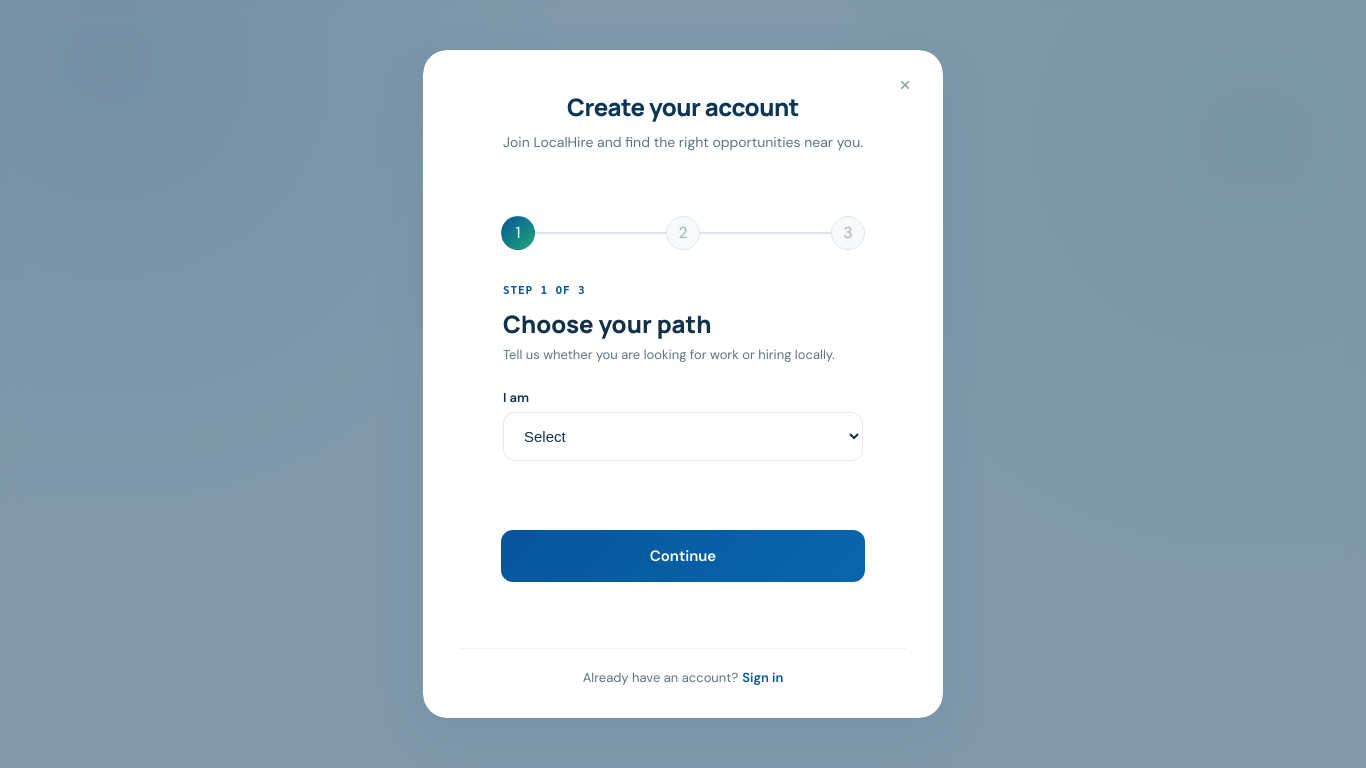
Test: AuthModal › toggles modes and resets to the first step
Expected: the heading with class "auth-modal__title" reads "Create your account", [567, 90, 799, 123]
Click the button with class "auth-modal__toggle": [763, 677] box [742, 669, 783, 686]
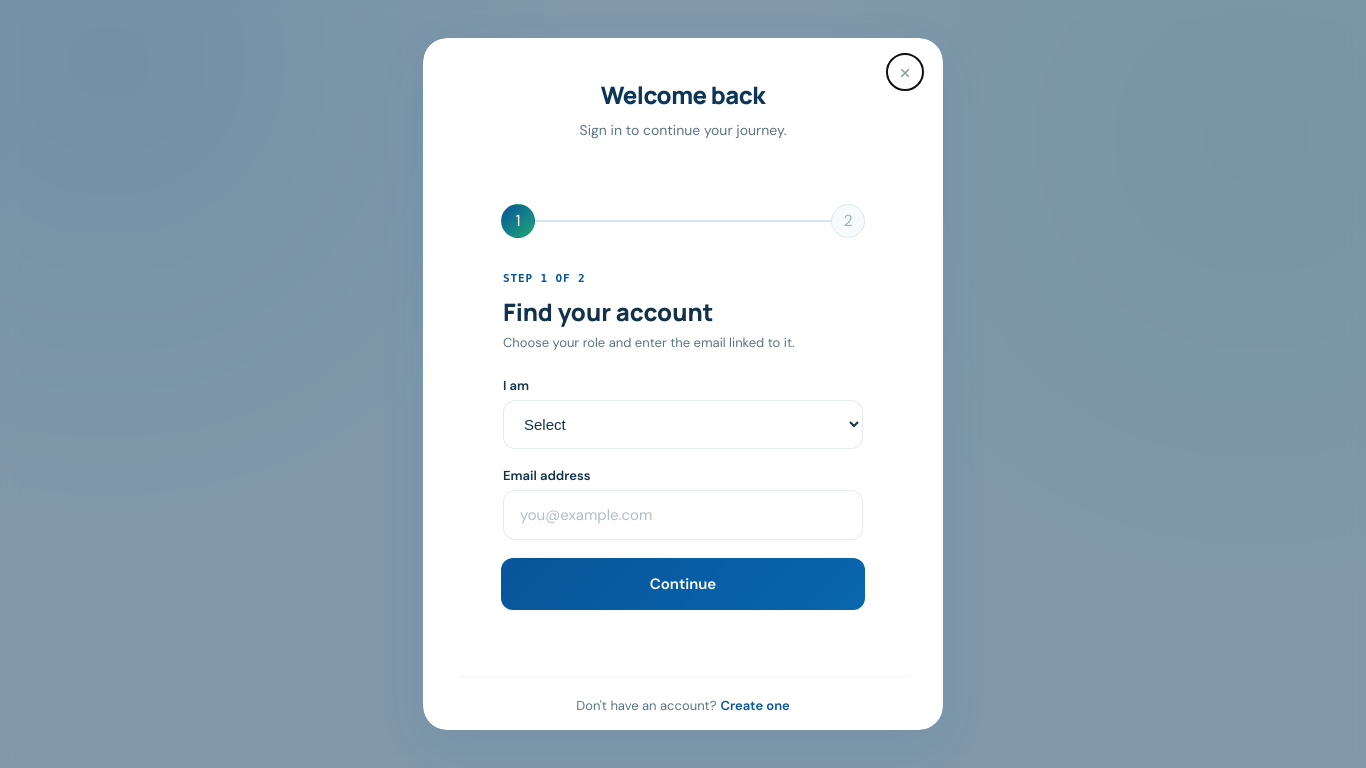
Expected: the heading with class "auth-modal__title" reads "Welcome back", [601, 78, 765, 111]
Expected: the text "Step 1 of 2" is shown, [503, 272, 586, 285]
Expected: the field with id "auth-login-email" is shown, [503, 490, 863, 540]
Click the button with class "auth-modal__toggle": [755, 705] box [720, 697, 790, 714]
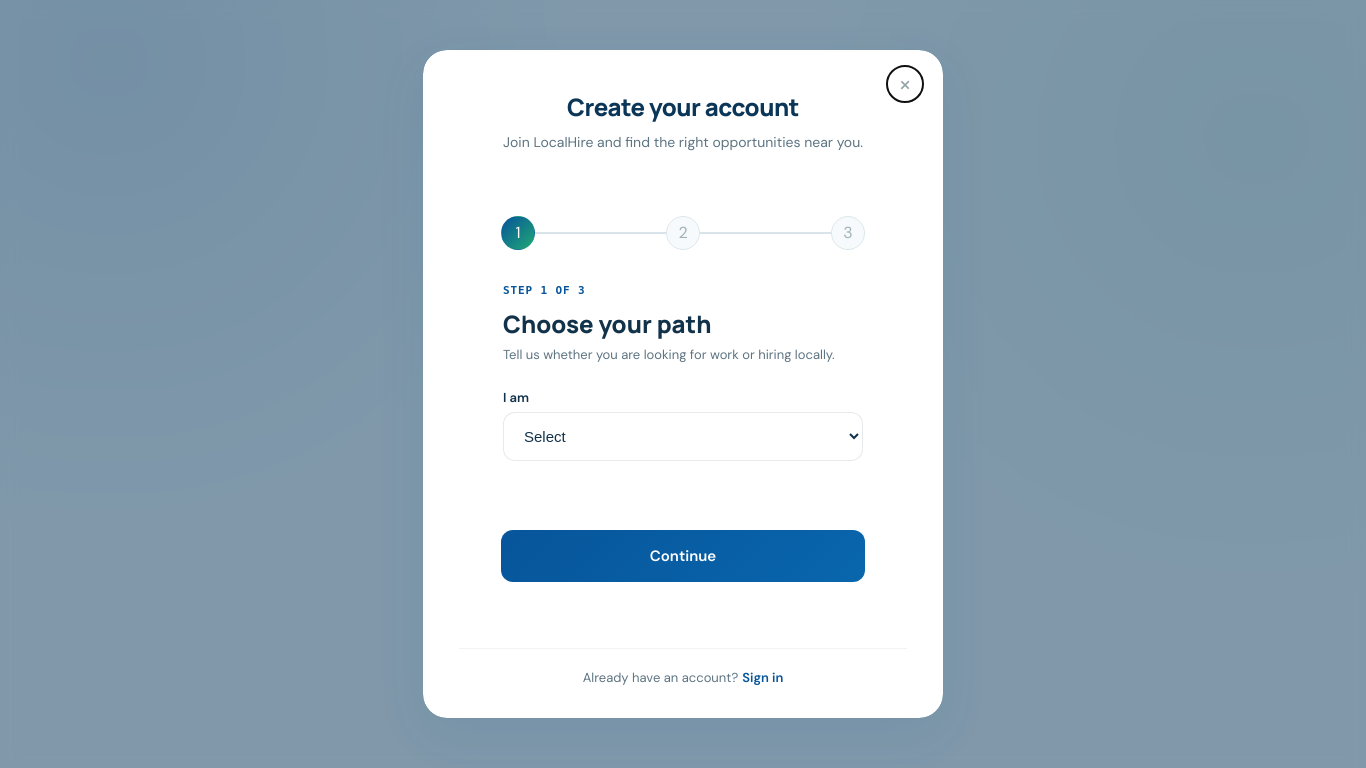
Expected: the text "Step 1 of 3" is shown, [503, 284, 586, 297]
